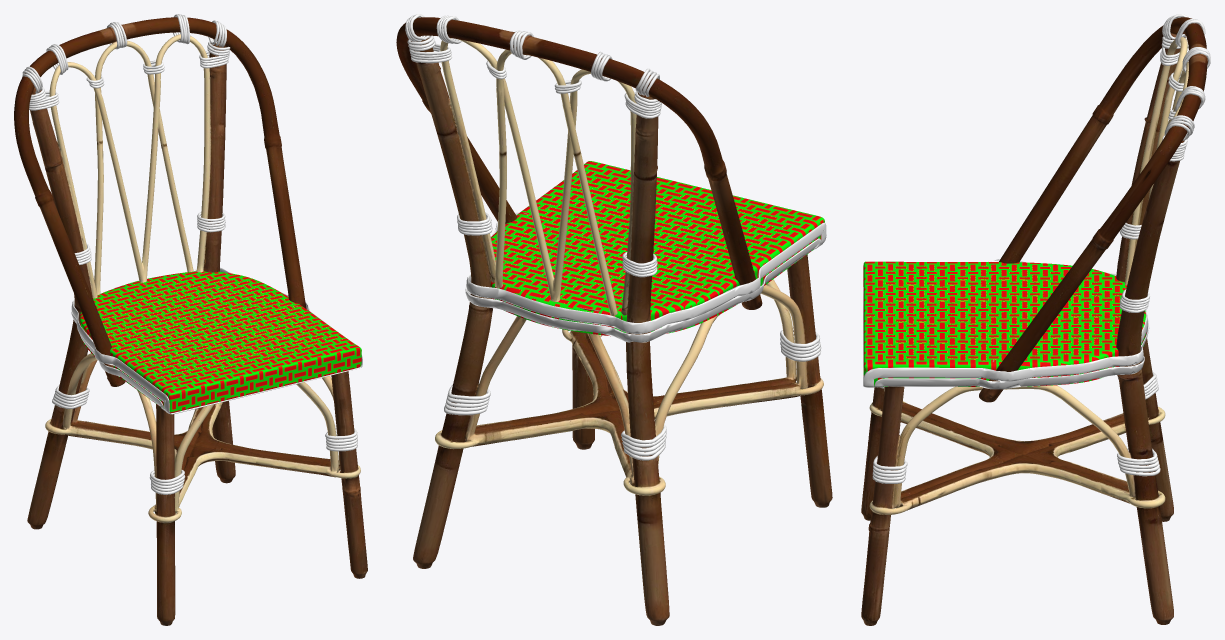
The model's file is harpe-damier.glb.
The picture shows the model from 3 angles, left to right: view 1: azimuth 30°, elevation 25°; view 2: azimuth 150°, elevation 25°; view 3: azimuth 270°, elevation 25°; orthographic projection. The views are drawn at different scales.
Visible parts, largest first — view 1: mesh_structure, mesh_tressage, mesh_laniere; view 2: mesh_structure, mesh_tressage, mesh_laniere; view 3: mesh_structure, mesh_tressage, mesh_laniere.
Part boxes in pixels (box(x1,y1,x2,y2)): mesh_structure: box(14, 17, 367, 625); mesh_tressage: box(80, 271, 361, 413); mesh_laniere: box(22, 14, 362, 494); mesh_structure: box(396, 17, 832, 625); mesh_tressage: box(490, 161, 824, 336); mesh_laniere: box(405, 14, 826, 460); mesh_structure: box(861, 17, 1207, 625); mesh_tressage: box(863, 261, 1146, 386); mesh_laniere: box(863, 14, 1210, 483).
Size of the model in its own units: 0.5059 by 0.9056 by 0.5488.
Materials: 3 (2 with a texture image).
